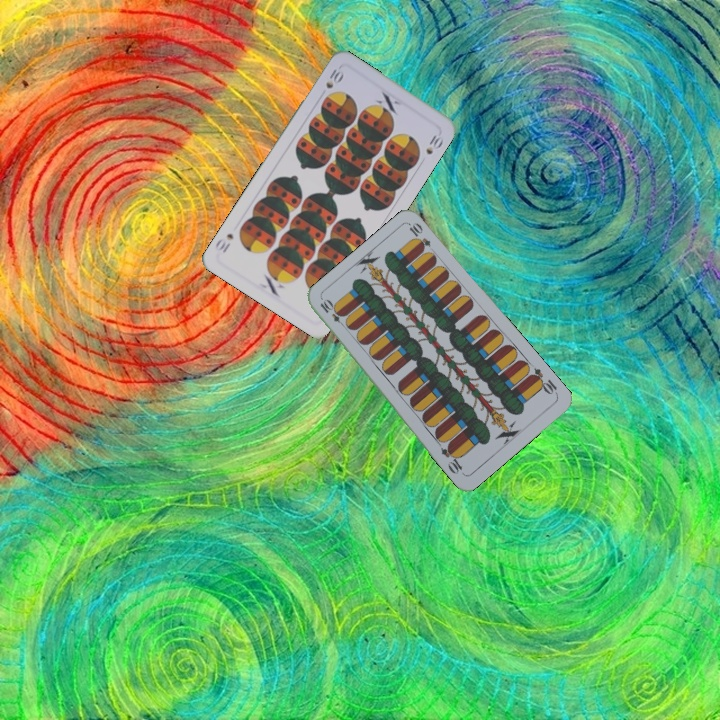E10: (526, 364, 560, 398), (316, 296, 349, 330)
S10: (321, 65, 346, 91)
